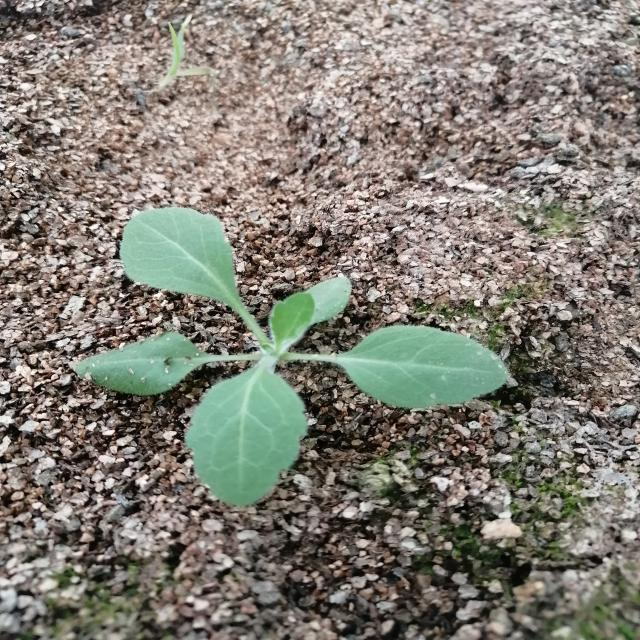horseweed: (43, 197, 510, 495)
